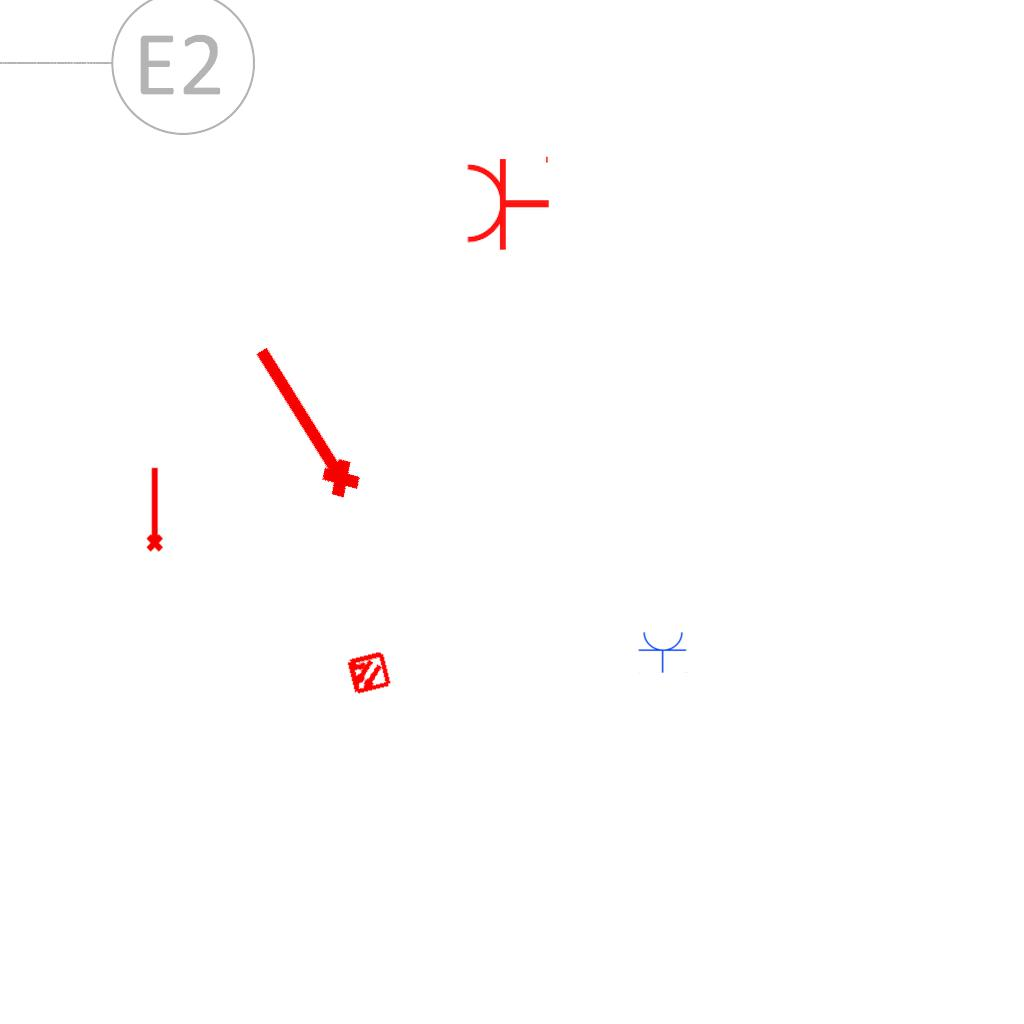ASR_Ansaugoeffnung: (236, 335, 370, 509), (142, 465, 165, 553)
OT_Multisensormelder_(Kombination_RMO_WMD): (334, 639, 402, 707)
Schukosteckdose_einfach: (464, 152, 551, 252), (638, 630, 688, 673)
